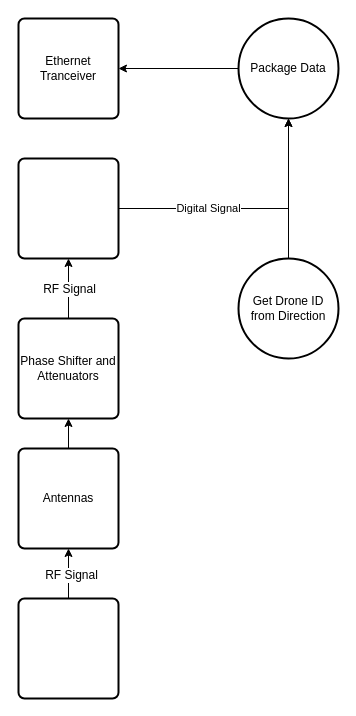
Image size: 356x716. Some labels were removed from this diagram. The box of each missing label's shape, as (x1, y1, x2, y2) in pixels:
Drone: (17, 597, 119, 699)
Radio: (17, 157, 119, 259)
